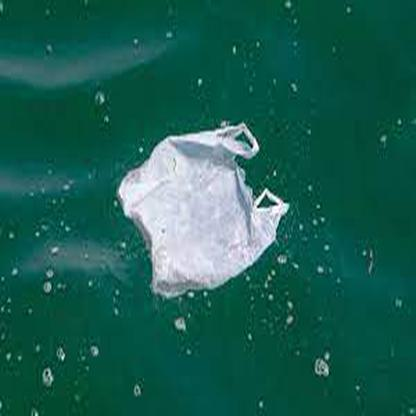plastic bag: (117, 120, 290, 300)
